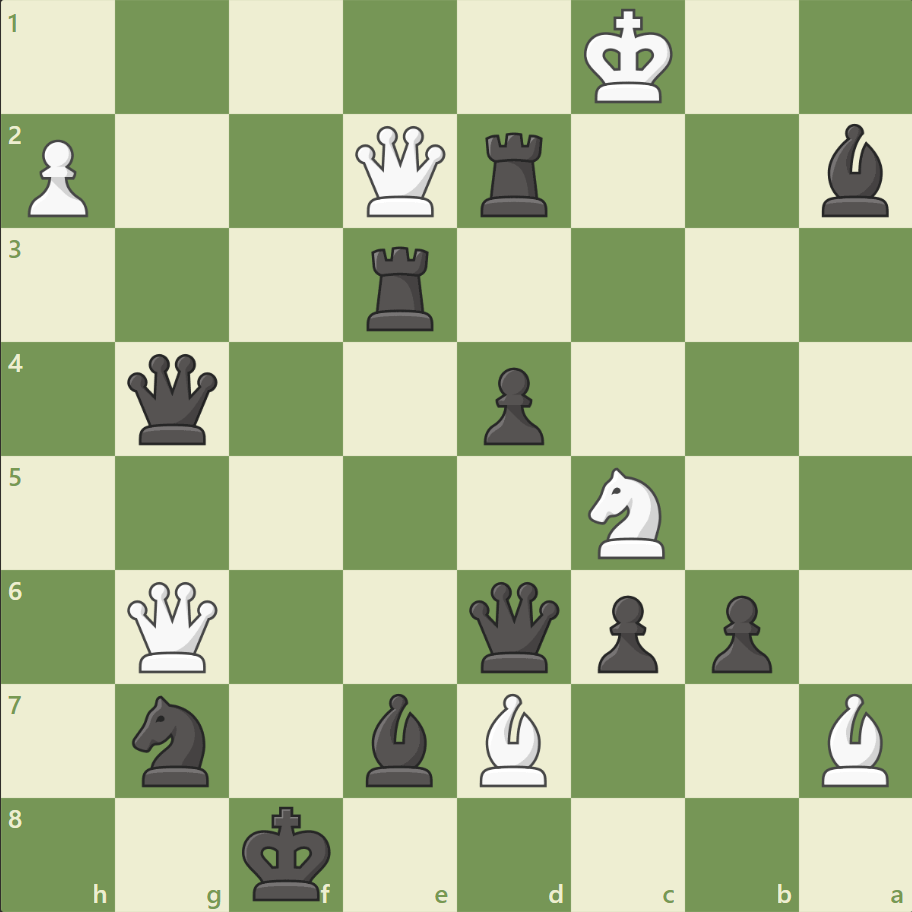B: (812, 687, 896, 790), (471, 687, 555, 790)
K: (579, 4, 679, 112)
N: (579, 461, 676, 564)
P: (20, 132, 95, 223)
Q: (124, 576, 223, 676), (351, 122, 450, 222)
b: (358, 687, 442, 790), (812, 120, 896, 222)
k: (238, 798, 338, 906)
n: (124, 688, 222, 791)
p: (701, 586, 776, 677), (474, 359, 549, 450), (588, 586, 662, 677)
q: (464, 576, 563, 676), (124, 349, 223, 449)
r: (473, 125, 556, 222), (360, 239, 442, 336)
